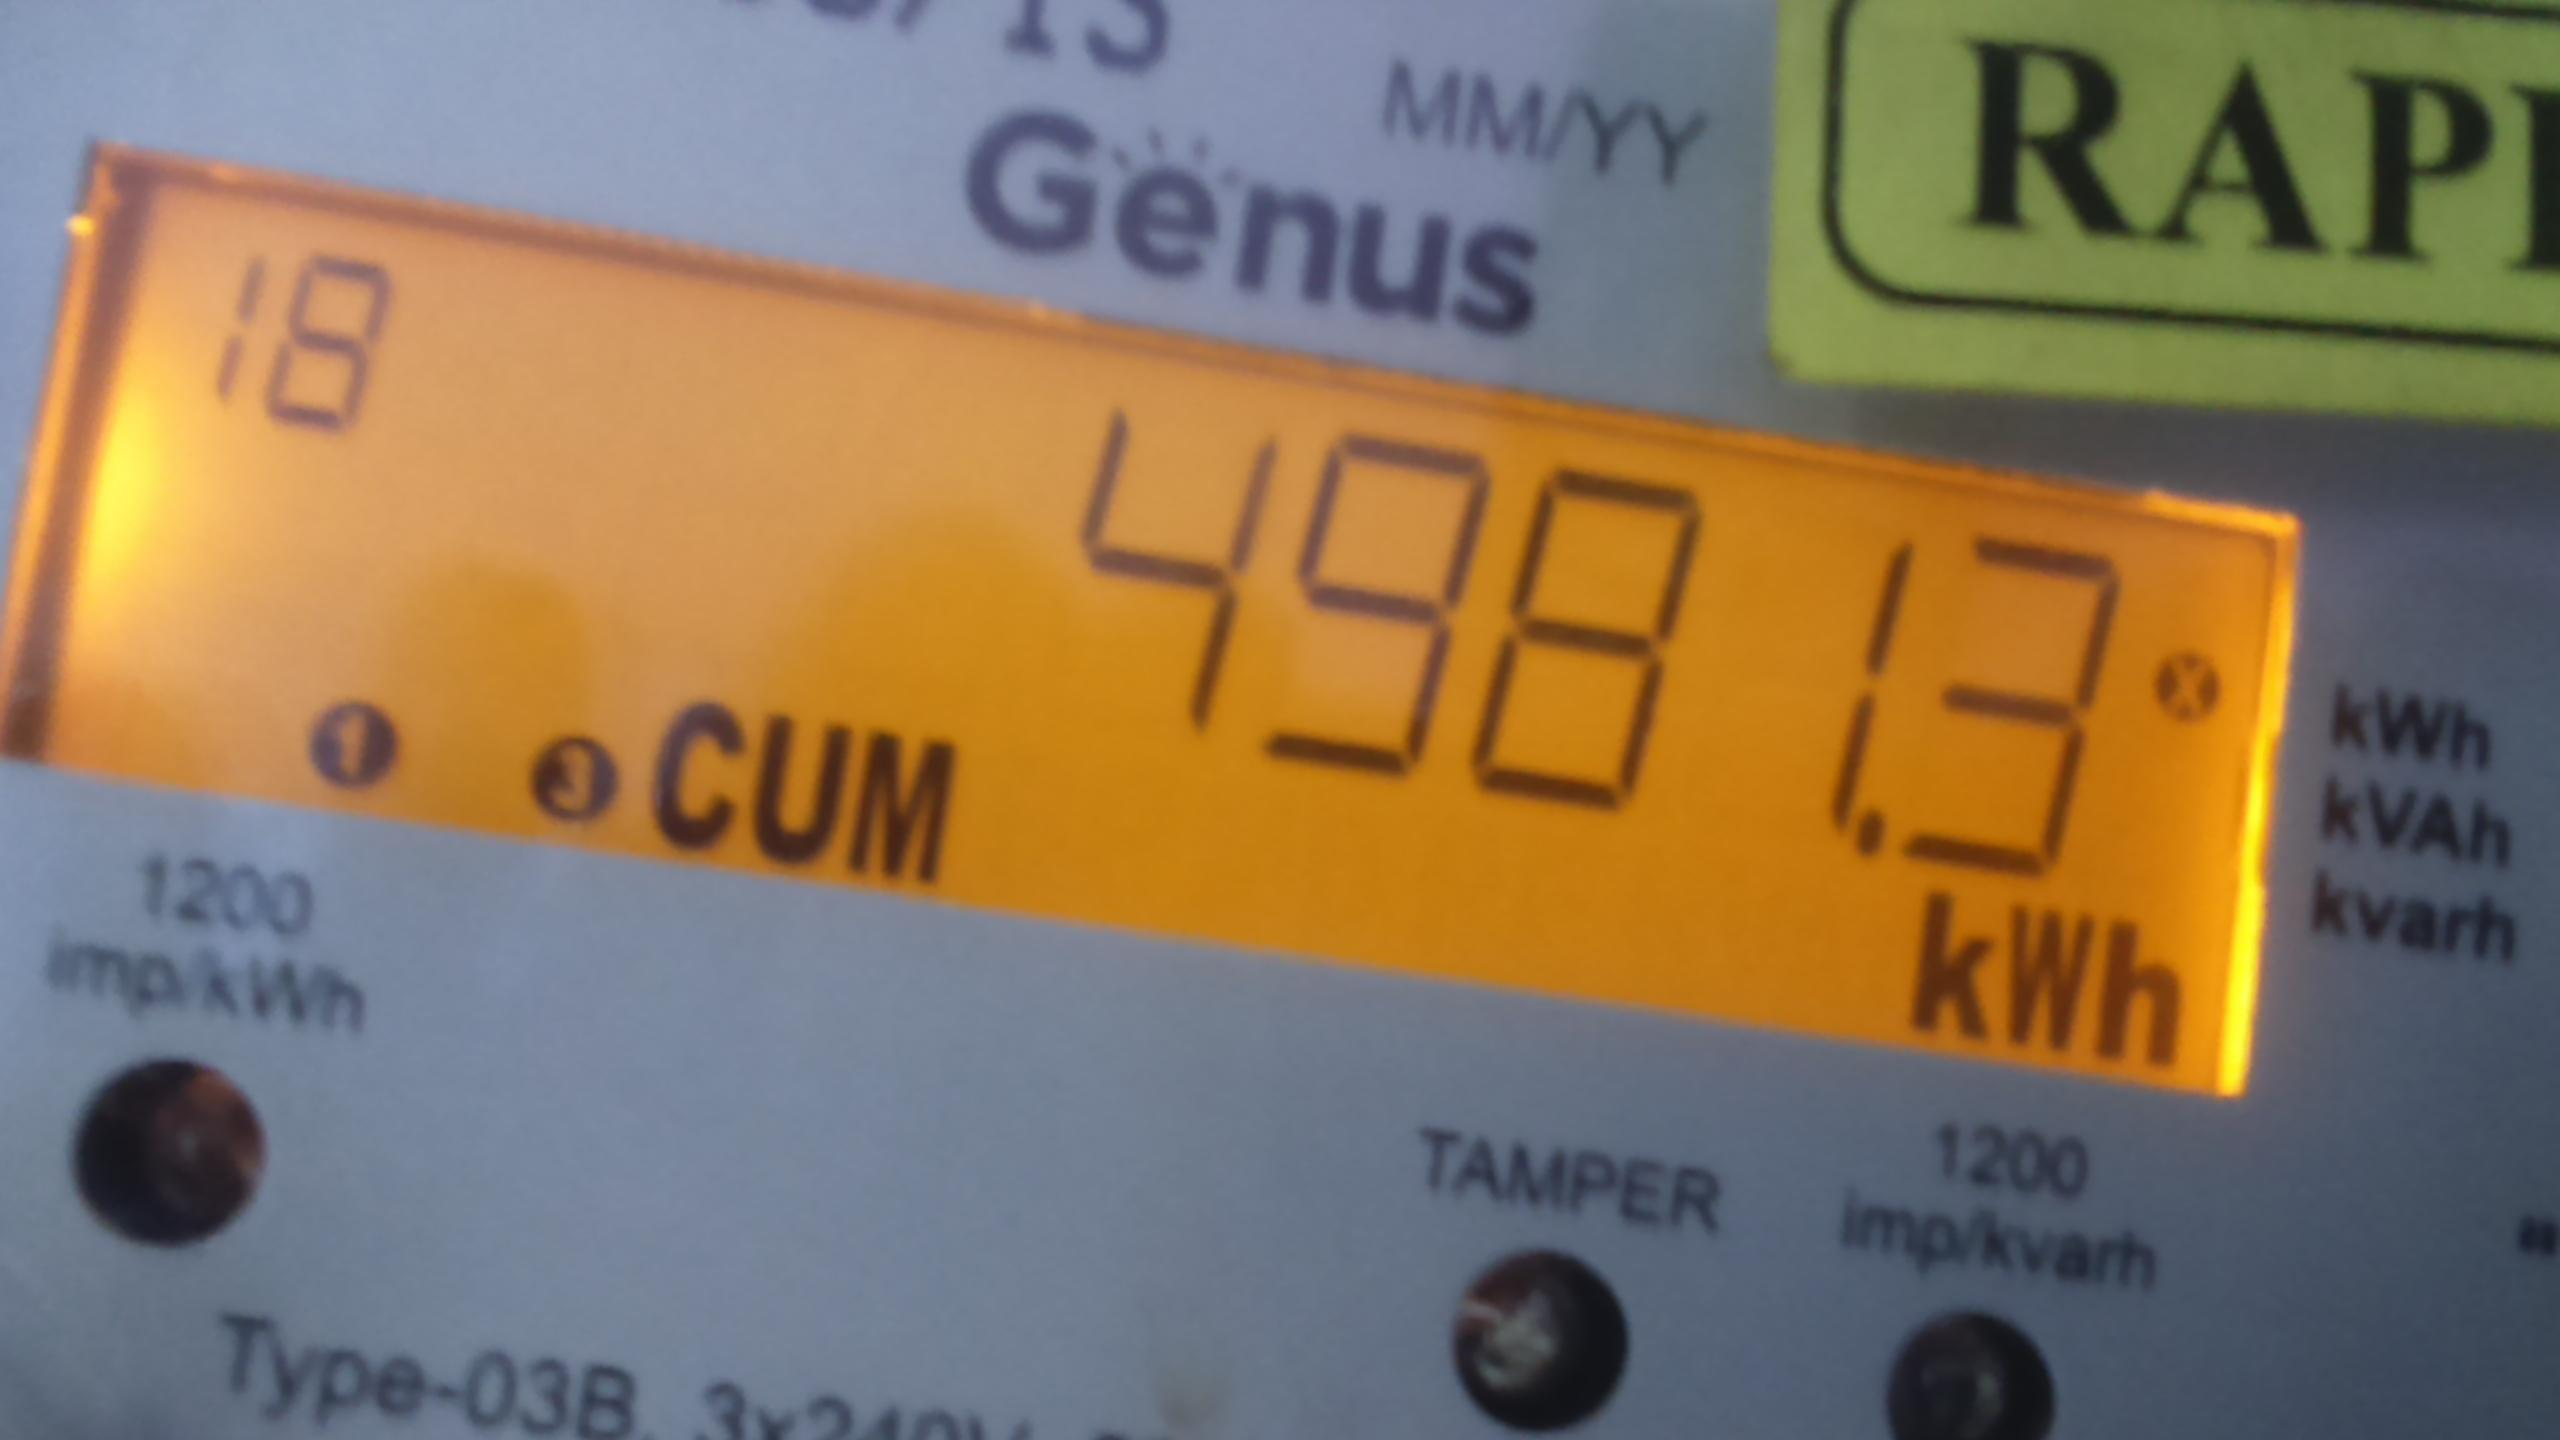.: (1897, 870, 2207, 1090)
0: (1811, 784, 1938, 890)
2: (1760, 508, 1982, 832)
4: (1890, 503, 2163, 883)
5: (1007, 359, 1331, 753)
9: (1458, 433, 1751, 812)
:: (1227, 394, 1517, 823)
